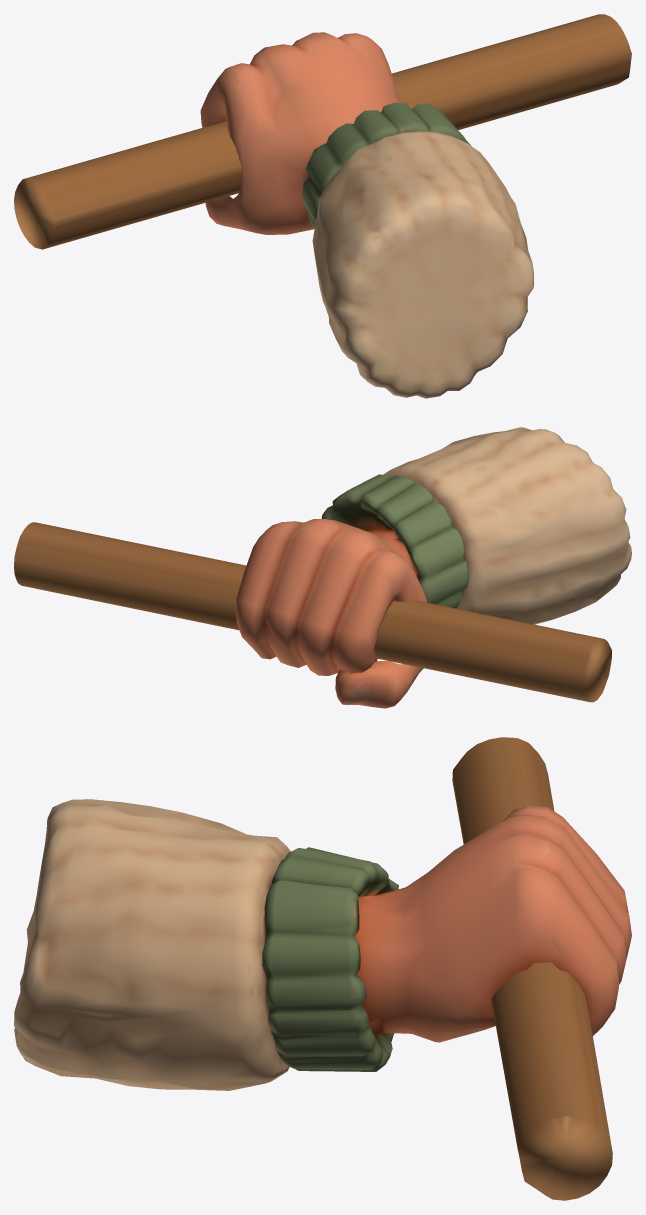
The model's file is fist.glb.
3 renders of one model, top to bottom at view 1: azimuth 30°, elevation 25°; view 2: azimuth 150°, elevation 25°; view 3: azimuth 270°, elevation 25°, orthographic. The views are drawn at different scales.
Parts seen in each view (by area): view 1: hand, stick; view 2: hand, stick; view 3: hand, stick.
Part boxes in pixels (x1,y1,x2,y2): hand: (200, 32, 533, 398); stick: (14, 14, 631, 249); hand: (235, 427, 631, 708); stick: (14, 522, 611, 702); hand: (14, 799, 631, 1090); stick: (452, 737, 612, 1200).
Size of the model in its own units: 0.4387 by 0.1444 by 0.3.
